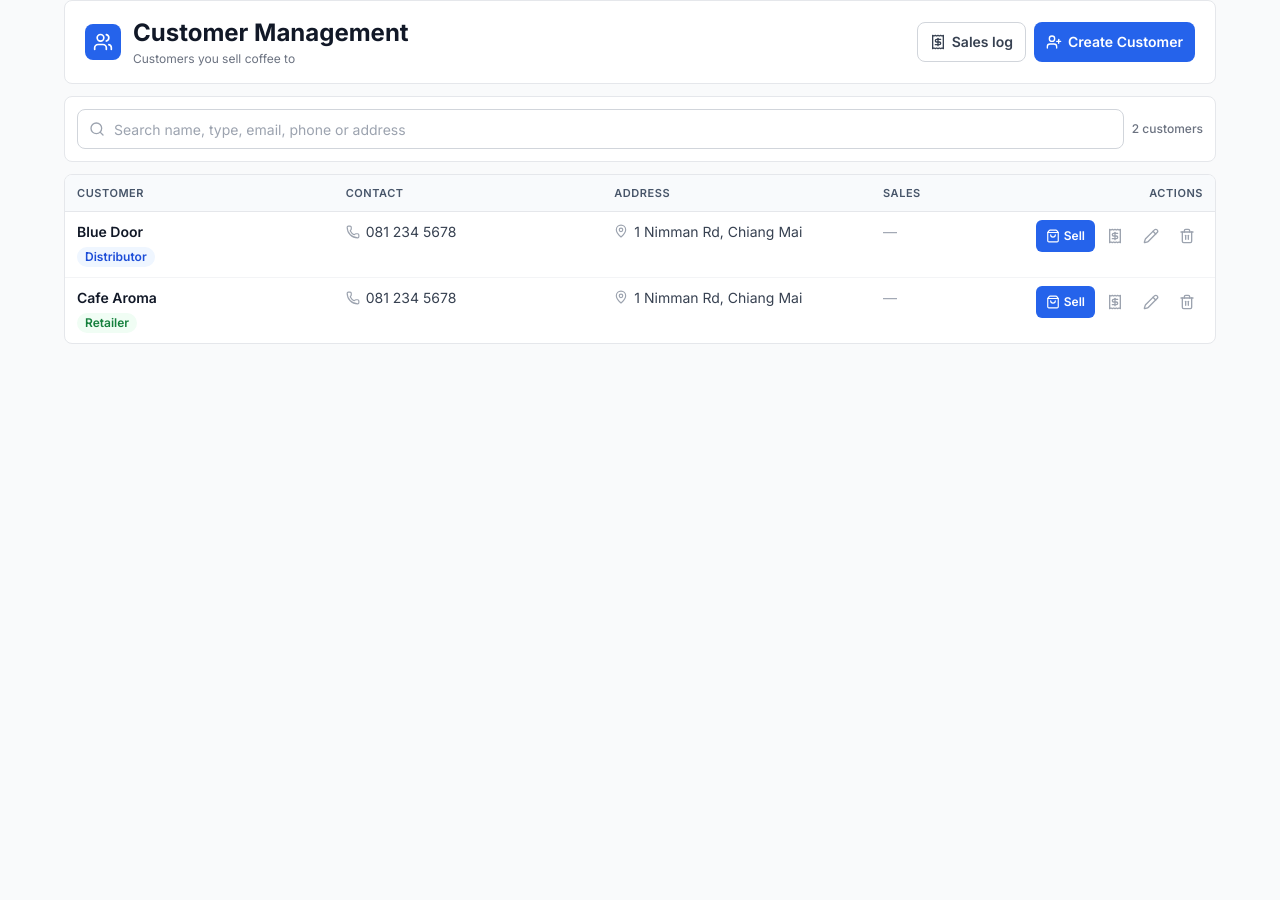
Test case: CustomerManagement delete › turns Delete off once the server refuses it for sales this roaster cannot see (409)
Click the button named "Delete customer Blue Door": [1187, 236] box [1171,220,1203,252]
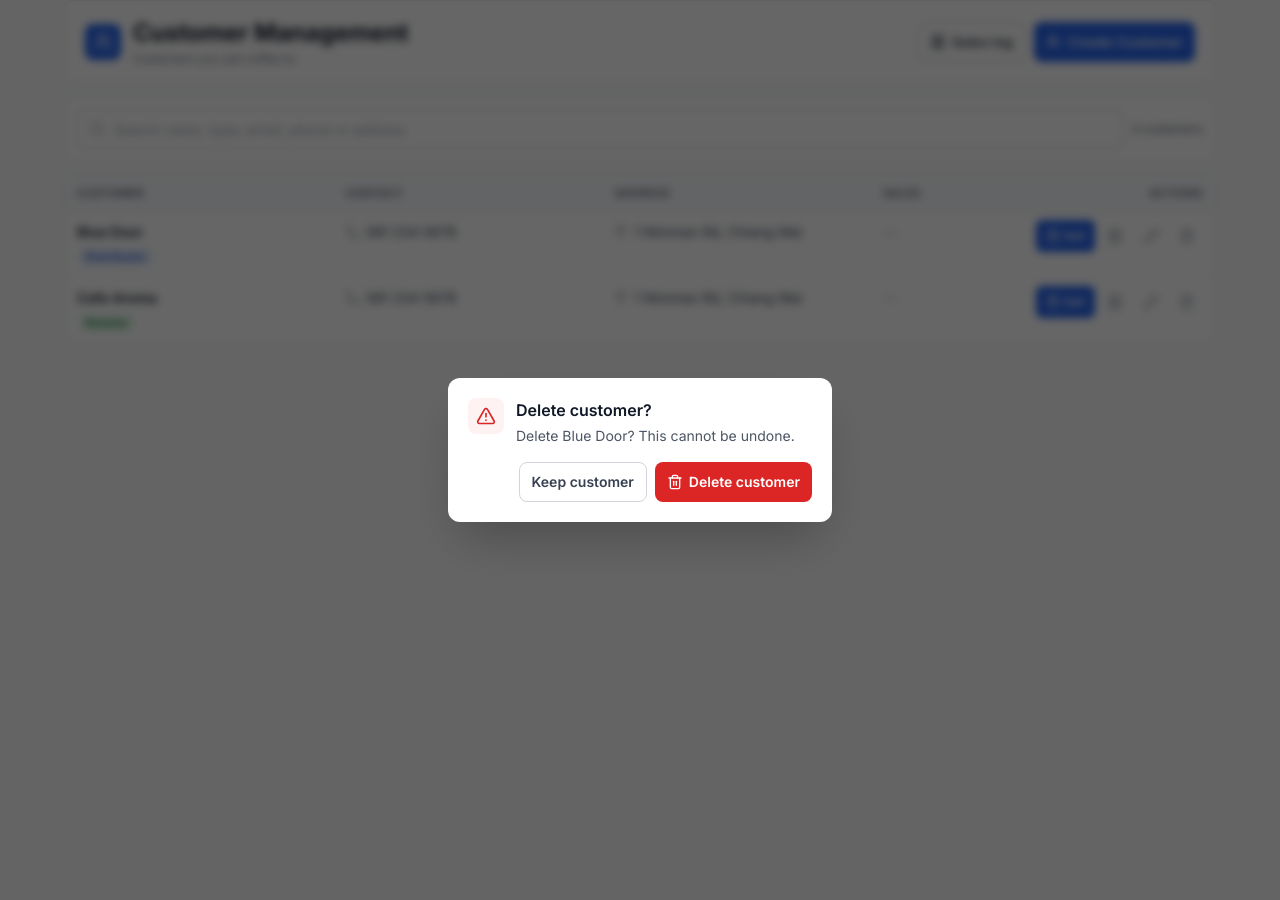
Expected: the dialog shows "Delete Blue Door? This cannot be undone.", [516,427,795,444]
Click the button "Delete customer": [733, 482] box [655,462,812,502]
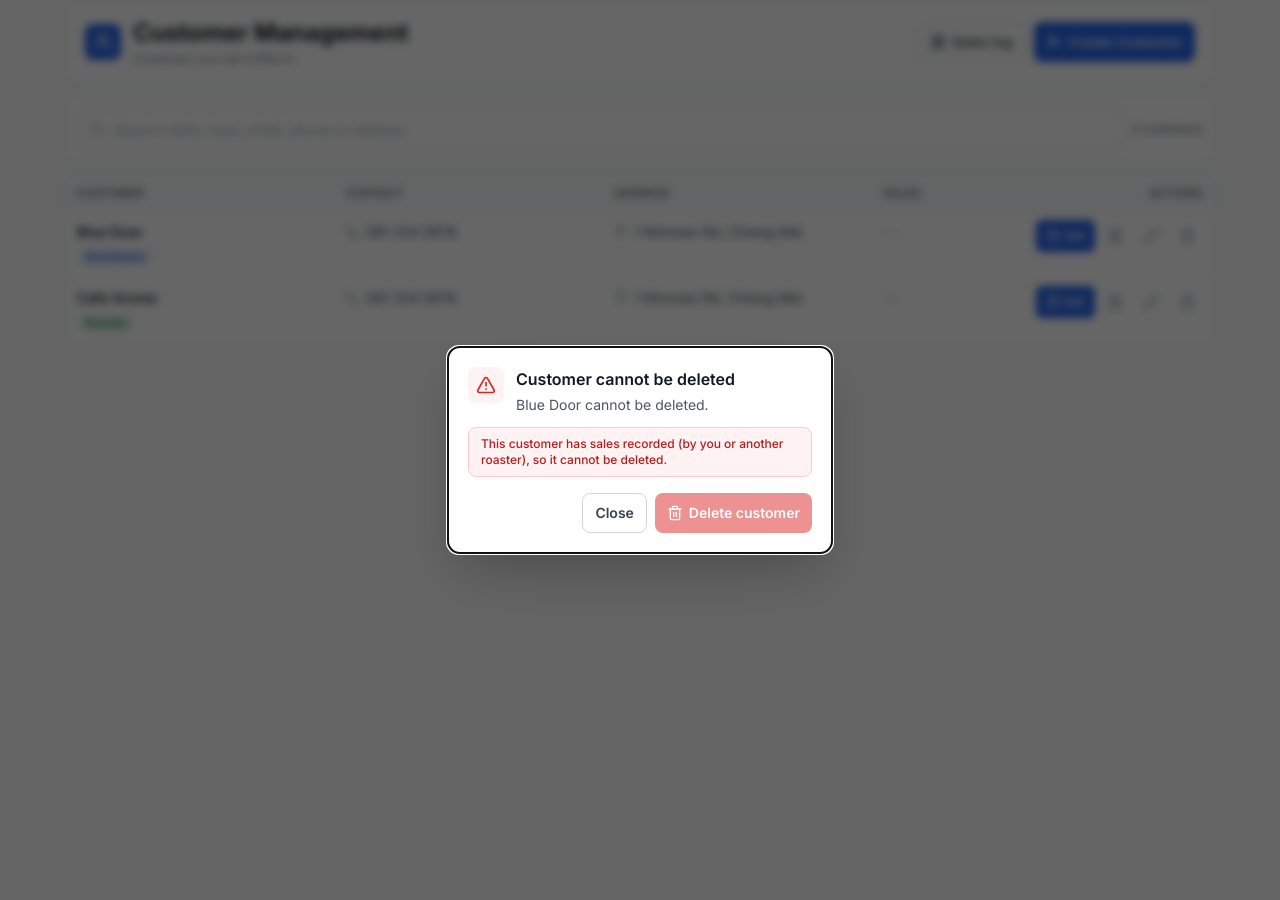
Expected: the button "Close" is enabled, [582,493,647,533]
Expected: the message shows "so it cannot be deleted", [481,436,784,467]
Expected: the button "Delete customer" is disabled, [655,493,812,533]
